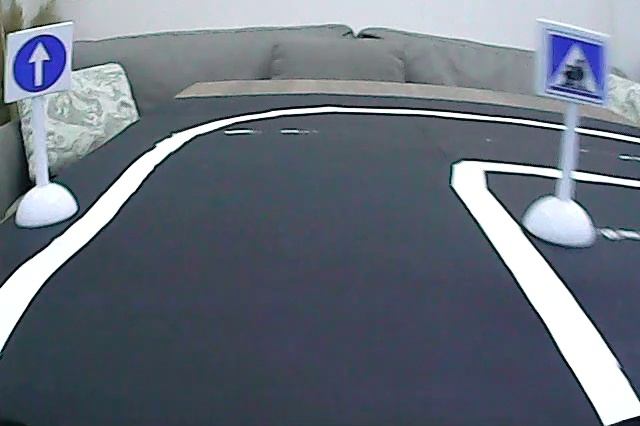school crossing: (543, 29, 607, 103)
